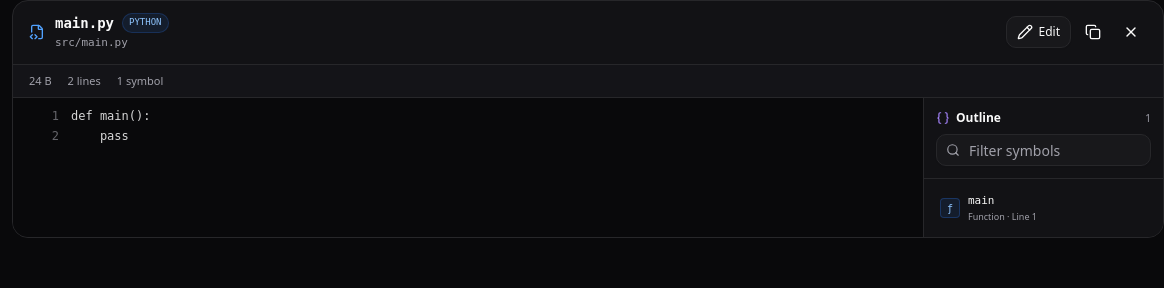
Test case: FileInspector › retains edits and shows the reason when saving conflicts
This screenshot has width=1164, height=288.
expect the text "def main():" is shown: met, box [71,109,150,123]
Click the button "Edit" at (1038, 32), box [1006,16,1071,48]
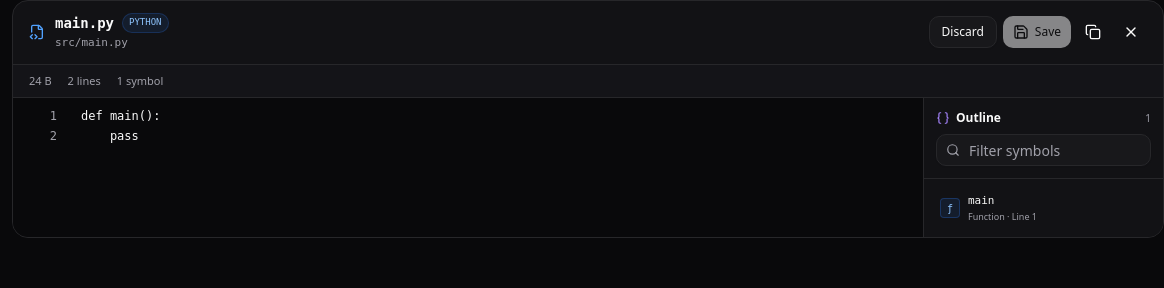
Replace the text in the text box named "Edit main.py" with "my edits" at (496, 168), box [69,98,923,237]
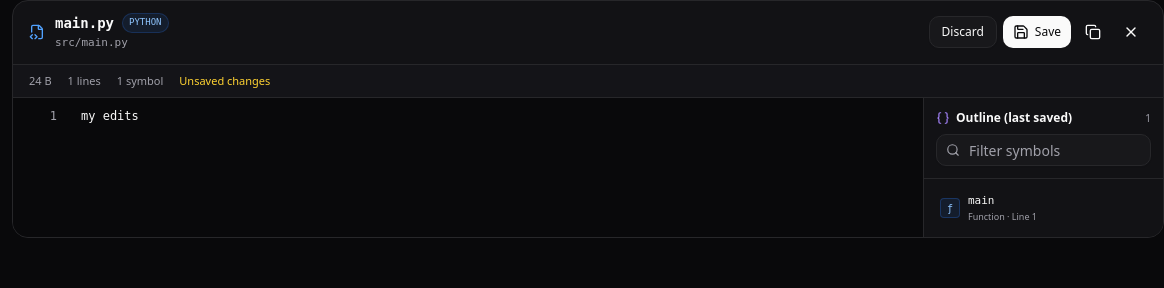
Click the button "Save" at (1037, 32), box [1003,16,1071,48]
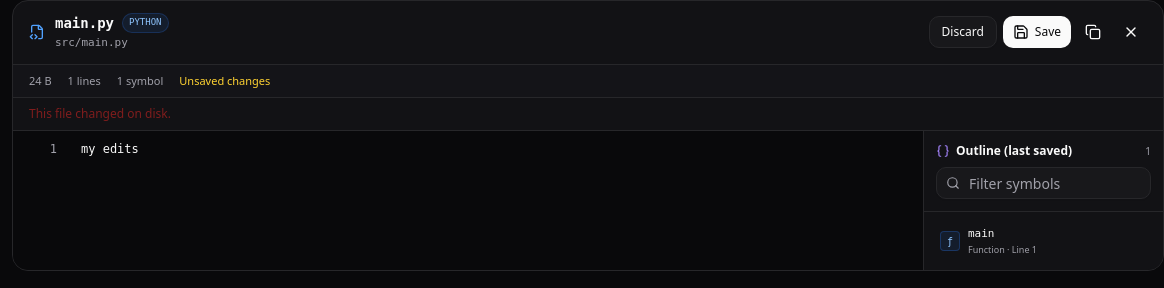
expect the button "Save" is enabled: met, box [1003,16,1071,48]
expect the message "This file changed on disk." is shown: met, box [13,98,1163,131]
